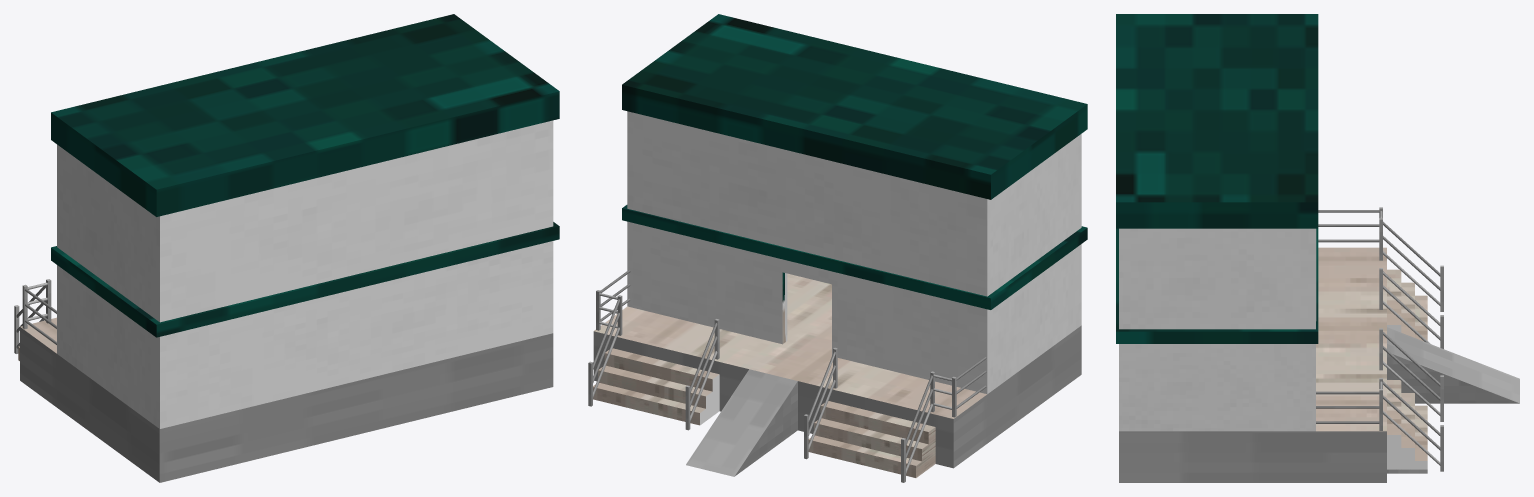
The model's file is Edificio_2.fbx.
3 views of the same model, side by side, from view 1: azimuth 30°, elevation 25°; view 2: azimuth 150°, elevation 25°; view 3: azimuth 270°, elevation 25° (orthographic). The views are drawn at different scales.
Visible parts, largest first — view 1: Edificio_2; view 2: Edificio_2; view 3: Edificio_2.
Boxes of the visible parts, x1=… form: Edificio_2: x1=14, y1=14, x2=559, y2=482; Edificio_2: x1=588, y1=14, x2=1087, y2=482; Edificio_2: x1=1116, y1=14, x2=1519, y2=482.
Size of the model in its own units: 1297 by 909 by 1175.
1 material, 1 textured.
